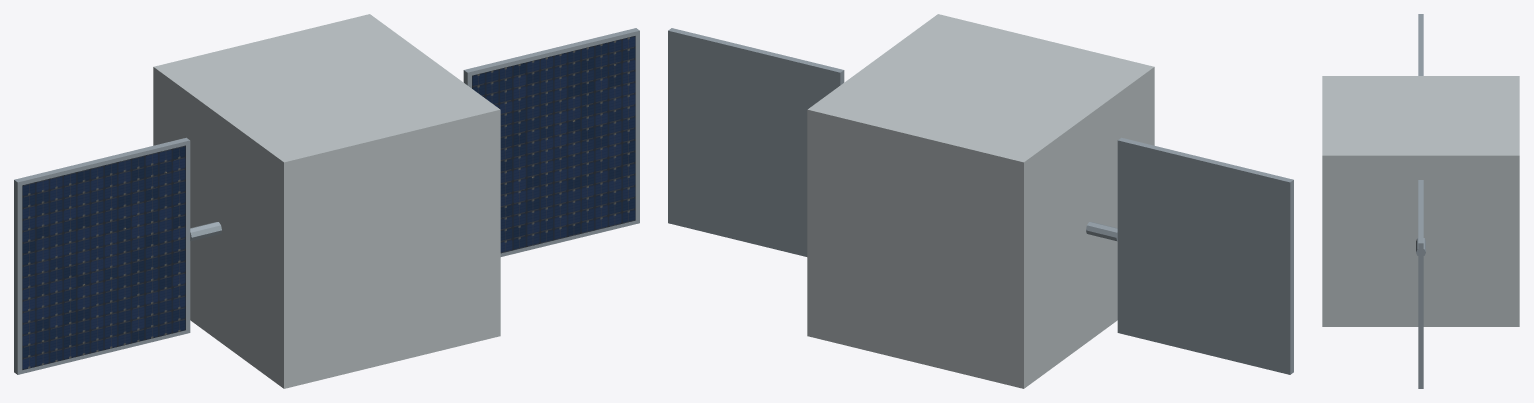
Rendered from ref-socrates-39768.glb.
3 views of the same model, side by side, from view 1: azimuth 30°, elevation 25°; view 2: azimuth 150°, elevation 25°; view 3: azimuth 270°, elevation 25° (orthographic). The views are drawn at different scales.
Visible parts, largest first — view 1: Spacecraft body, Photovoltaic laminates (×2), Array frame (×2); view 2: Spacecraft body, Array frame (×2); view 3: Spacecraft body, Array frame (×2).
Part boxes in pixels (<box>): Spacecraft body: <box>153,14,500,388</box>; Photovoltaic laminates (×2): <box>22,36,635,369</box>; Array frame (×2): <box>14,28,639,374</box>; Spacecraft body: <box>807,14,1154,388</box>; Array frame (×2): <box>668,28,1293,374</box>; Spacecraft body: <box>1322,76,1519,326</box>; Array frame (×2): <box>1418,14,1423,388</box>.
Bounding box in the file's own units: 1.39 × 0.485 × 0.507.
Materials: 3 (1 with a texture image).
